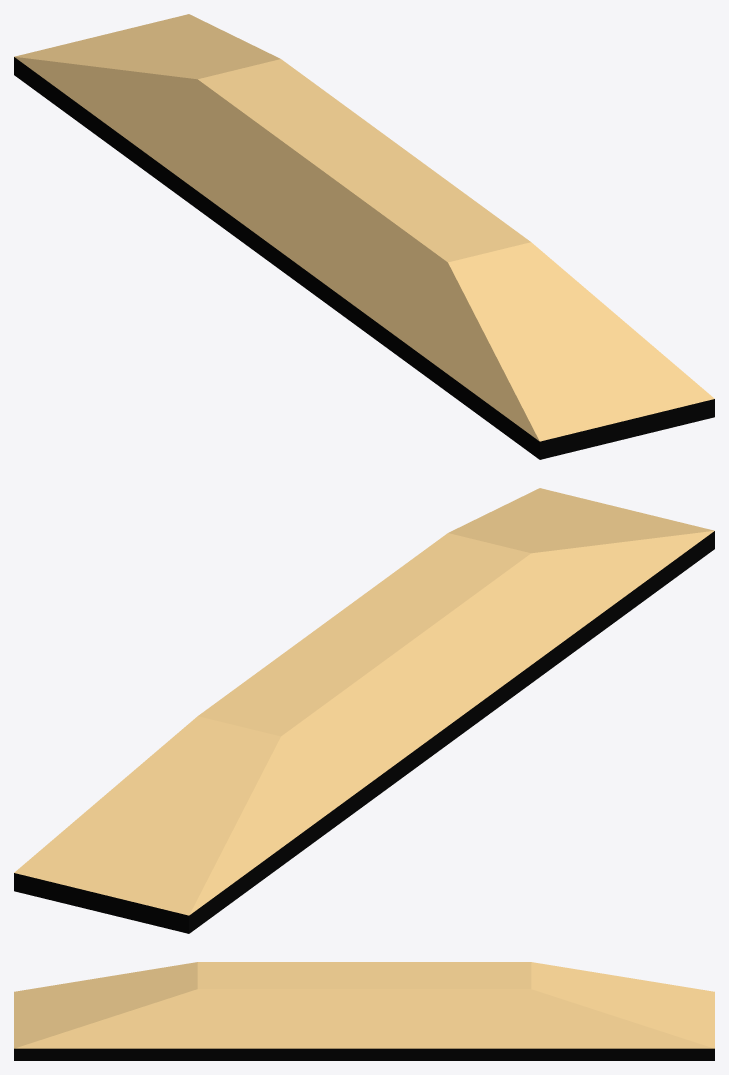
File: Lights.fbx
The picture shows the model from 3 angles, top to bottom: view 1: azimuth 30°, elevation 25°; view 2: azimuth 150°, elevation 25°; view 3: azimuth 270°, elevation 25°; orthographic projection. The views are drawn at different scales.
Parts seen in each view (by area): view 1: Cube; view 2: Cube; view 3: Cube.
Boxes of the visible parts, x1,y1,x2,y2 form: Cube: [14, 14, 714, 459]; Cube: [14, 488, 714, 933]; Cube: [14, 962, 714, 1060].
Bounding box in the file's own units: 105 × 49 × 547.
